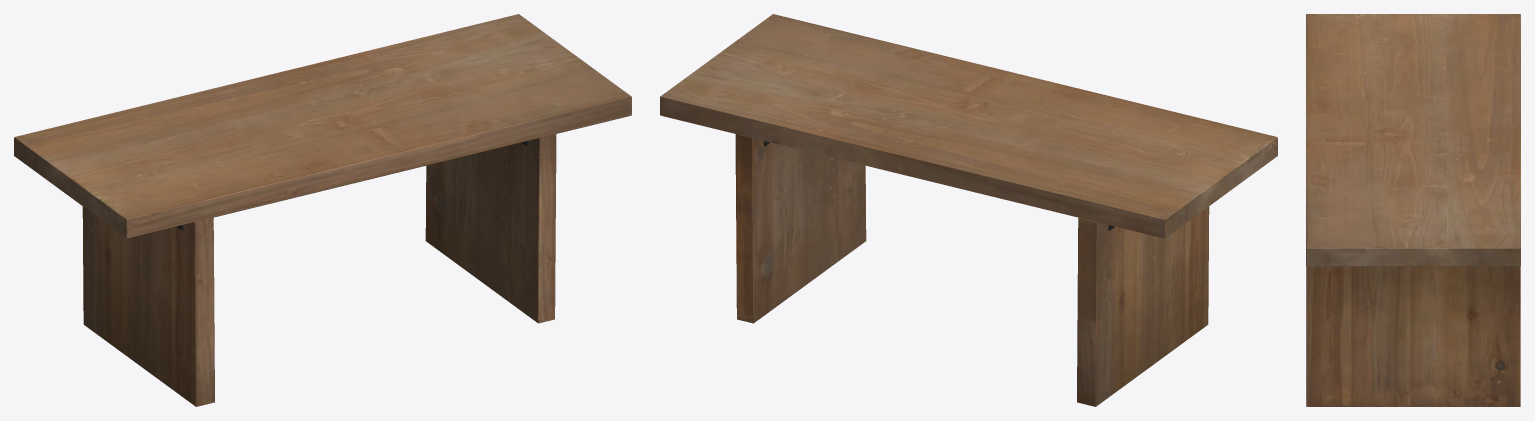
Rendered from abo-B07B7BX336.glb.
The picture shows the model from 3 angles, left to right: view 1: azimuth 30°, elevation 25°; view 2: azimuth 150°, elevation 25°; view 3: azimuth 270°, elevation 25°; orthographic projection. The views are drawn at different scales.
Size of the model in its own units: 1.18 by 0.458 by 0.458.
Materials: 1 (1 with a texture image).
